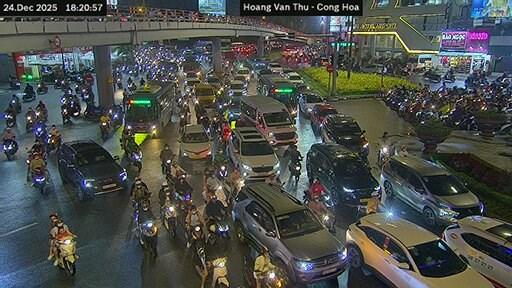motorbike: (118, 139, 140, 171), (57, 237, 76, 274), (137, 221, 156, 256), (189, 225, 204, 264), (211, 256, 229, 286), (263, 268, 288, 287), (210, 216, 229, 238), (175, 190, 192, 214), (163, 206, 175, 238), (243, 256, 255, 286), (32, 170, 47, 193), (83, 102, 102, 120), (320, 212, 335, 234), (108, 104, 121, 129), (377, 145, 391, 166), (45, 134, 60, 153), (3, 139, 16, 160), (128, 149, 140, 171), (289, 158, 300, 181), (35, 125, 47, 142), (69, 100, 80, 117), (60, 106, 70, 124), (320, 192, 332, 207), (423, 71, 440, 81), (99, 121, 108, 139), (35, 108, 47, 121), (9, 99, 21, 112), (217, 165, 227, 180), (25, 115, 35, 130), (82, 90, 93, 102), (179, 113, 186, 131), (6, 112, 15, 126), (22, 90, 35, 99), (54, 77, 64, 88), (303, 189, 310, 203), (37, 84, 47, 93), (9, 80, 19, 89), (442, 73, 454, 80), (115, 77, 121, 88), (128, 82, 135, 90)
